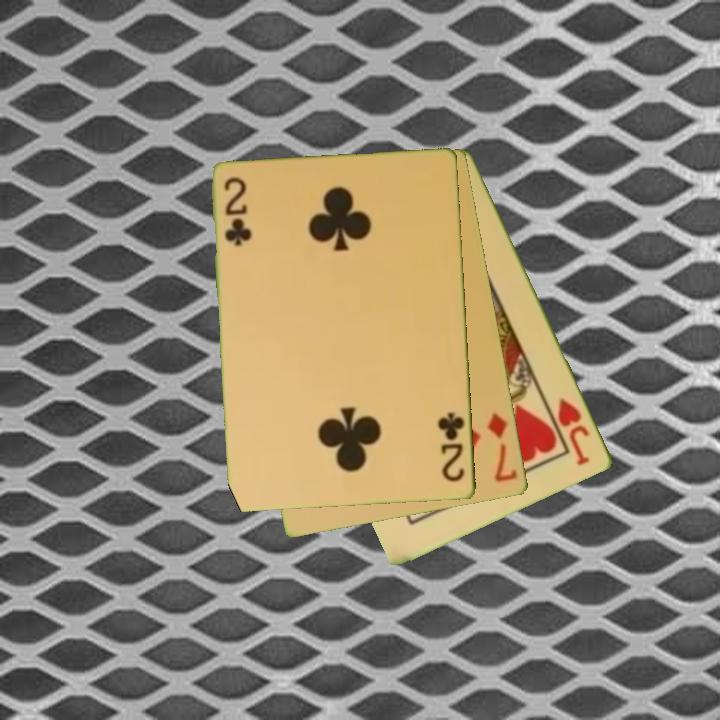2c: (435, 409, 468, 485), (221, 174, 252, 250)
7d: (484, 409, 521, 486)
Jh: (554, 394, 593, 469)
